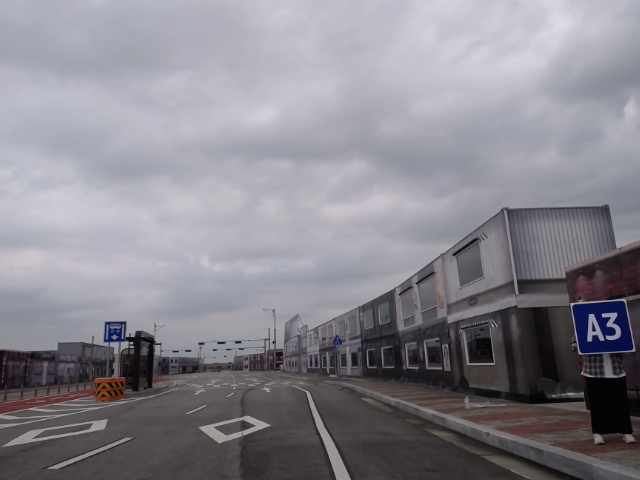delivery_a3: (571, 300, 635, 354)
